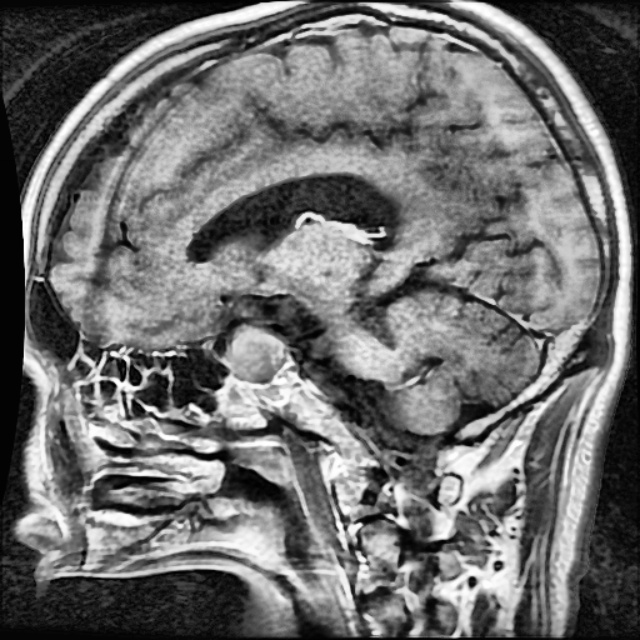Pituitary: (227, 324, 279, 375)
